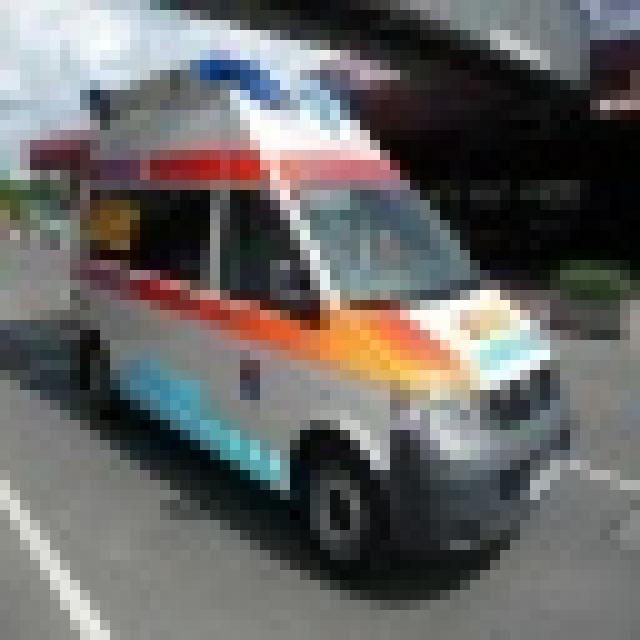Ambulance: (20, 50, 570, 570)
